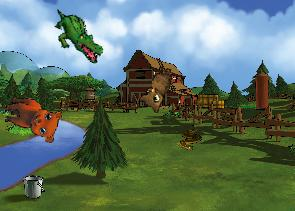bear: (0, 95, 63, 144)
crocodile: (43, 7, 112, 65)
owl: (136, 62, 173, 114)
